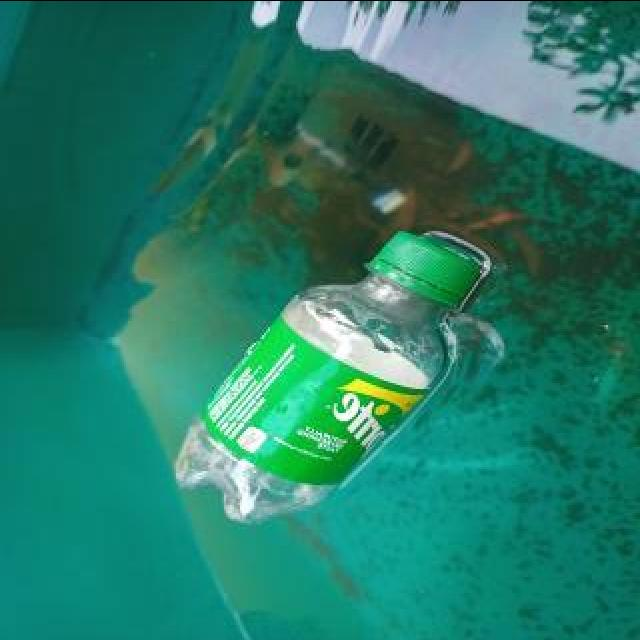Bottle: (162, 204, 494, 530)
